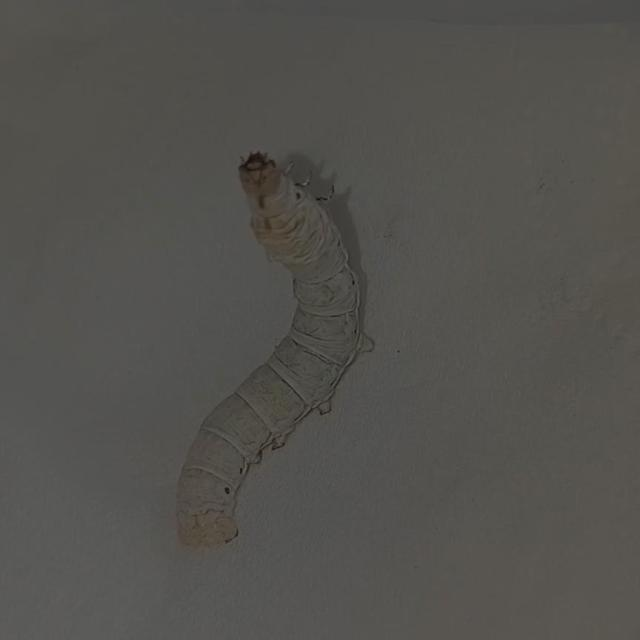Healthy: (156, 129, 394, 571)
